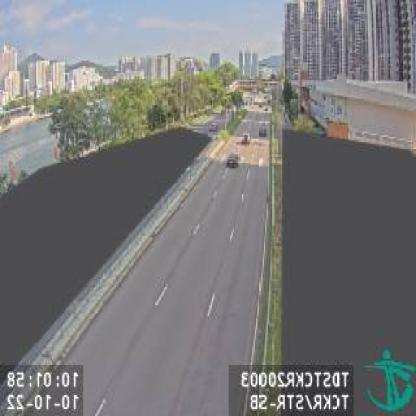Car: (226, 152, 242, 168)
